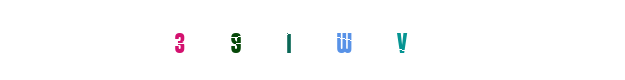3: (139, 0, 219, 80)
9: (196, 0, 276, 80)
L: (272, 0, 352, 80)
V: (308, 0, 388, 80)
W: (303, 0, 383, 80)
